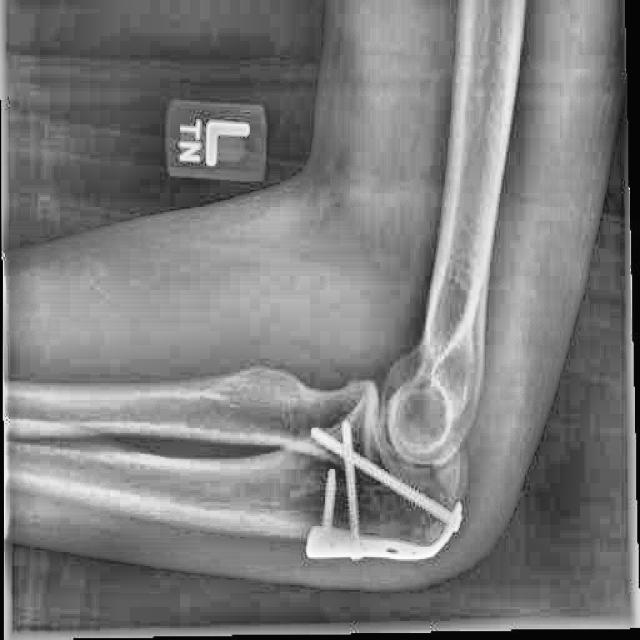elbow positive: (415, 440, 483, 542)
